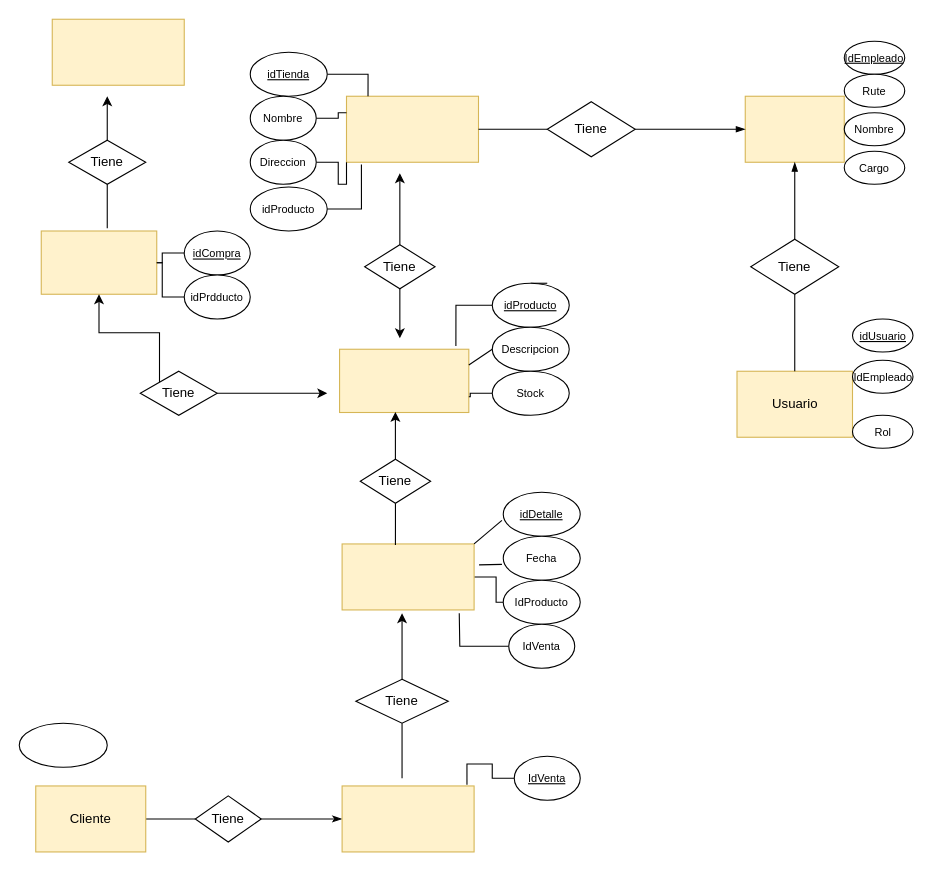
The diagram is 933 pixels wide and 871 high, and some of its shapes have lost their labels. Here are the shapes that lost their labels. From the top down, the centre of each, then its label:
At pixel 117 51: "Proveedor".
At pixel 412 128: "Tienda".
At pixel 794 128: "Empleado".
At pixel 98 262: "ComprasProveedor".
At pixel 403 380: "Producto".
At pixel 407 576: "DetalleVentas".
At pixel 62 744: "IdCliente".
At pixel 407 818: "Ventas".
